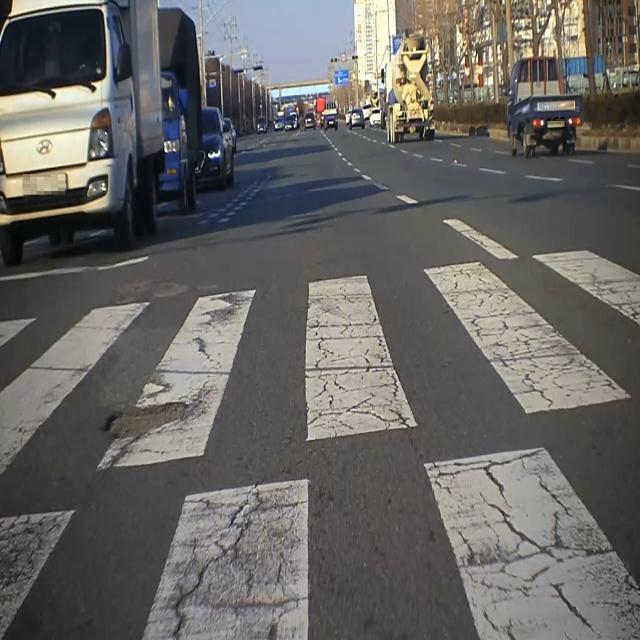Buraco: (98, 400, 194, 442)
